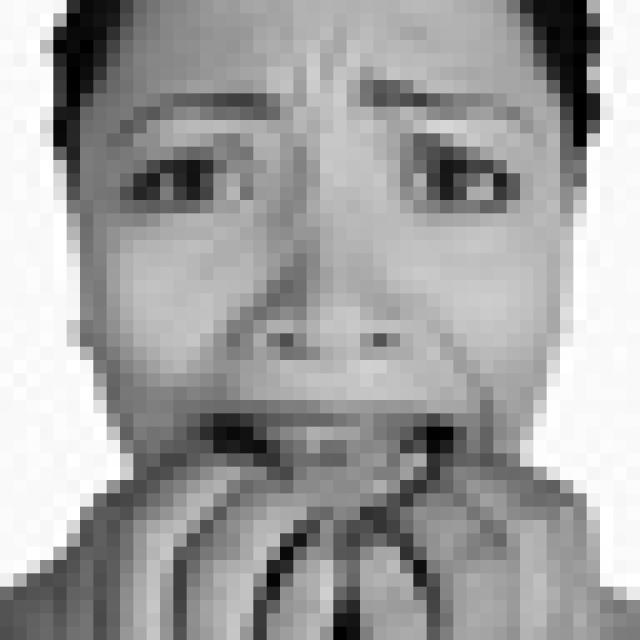fear: (109, 46, 545, 527)
